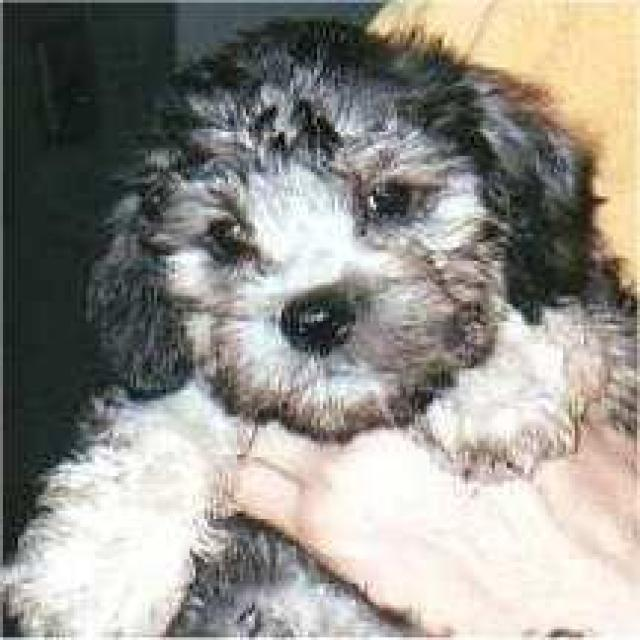dandie_dinmont: (12, 25, 637, 638)
